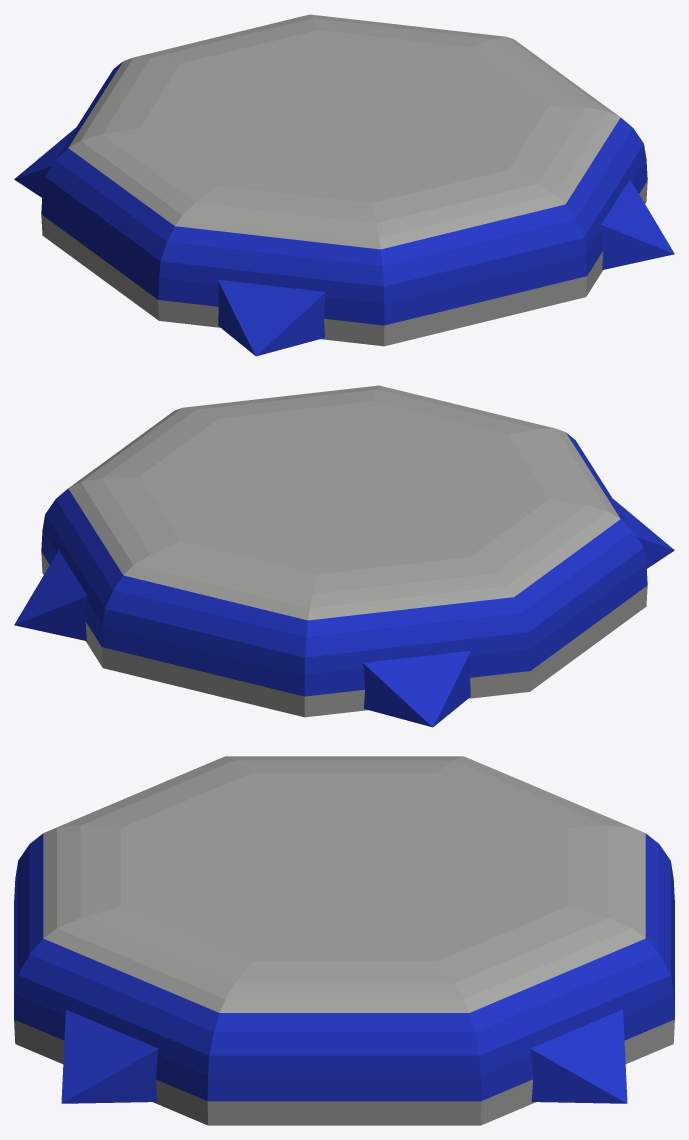
Rendered from base_water.fbx.
3 renders of one model, top to bottom at view 1: azimuth 30°, elevation 25°; view 2: azimuth 150°, elevation 25°; view 3: azimuth 270°, elevation 25°, orthographic. The views are drawn at different scales.
Parts seen in each view (by area): view 1: Circle.001; view 2: Circle.001; view 3: Circle.001.
Boxes of the visible parts, x1=… form: Circle.001: x1=14, y1=14, x2=674, y2=356; Circle.001: x1=14, y1=385, x2=674, y2=727; Circle.001: x1=14, y1=756, x2=674, y2=1125.
Bounding box in the file's own units: 185 × 36.92 × 185.
Materials: 1 (1 with a texture image).
